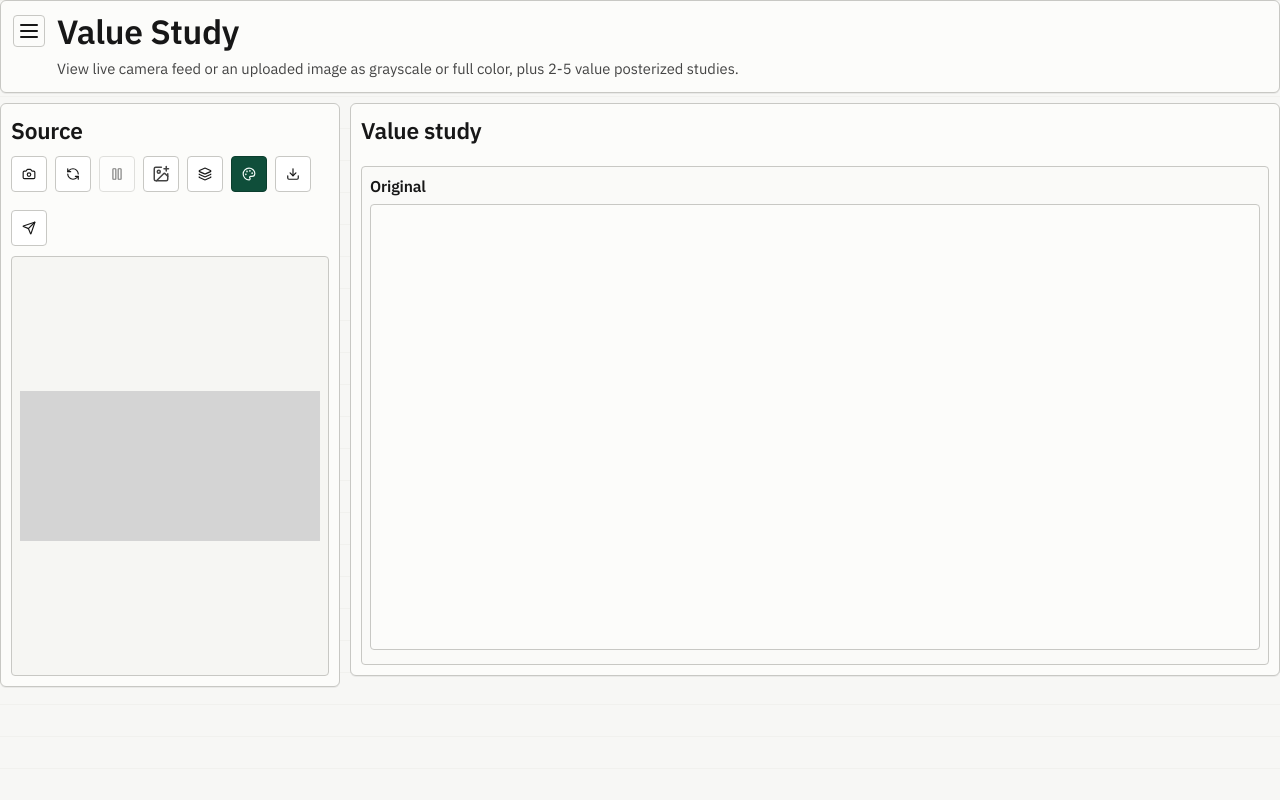
Scenario: PosterizeViewerPage › cycles value stage when the study preview is tapped
Click the button with aria-label "study preview".
click(815, 416)  # box [361, 166, 1269, 665]
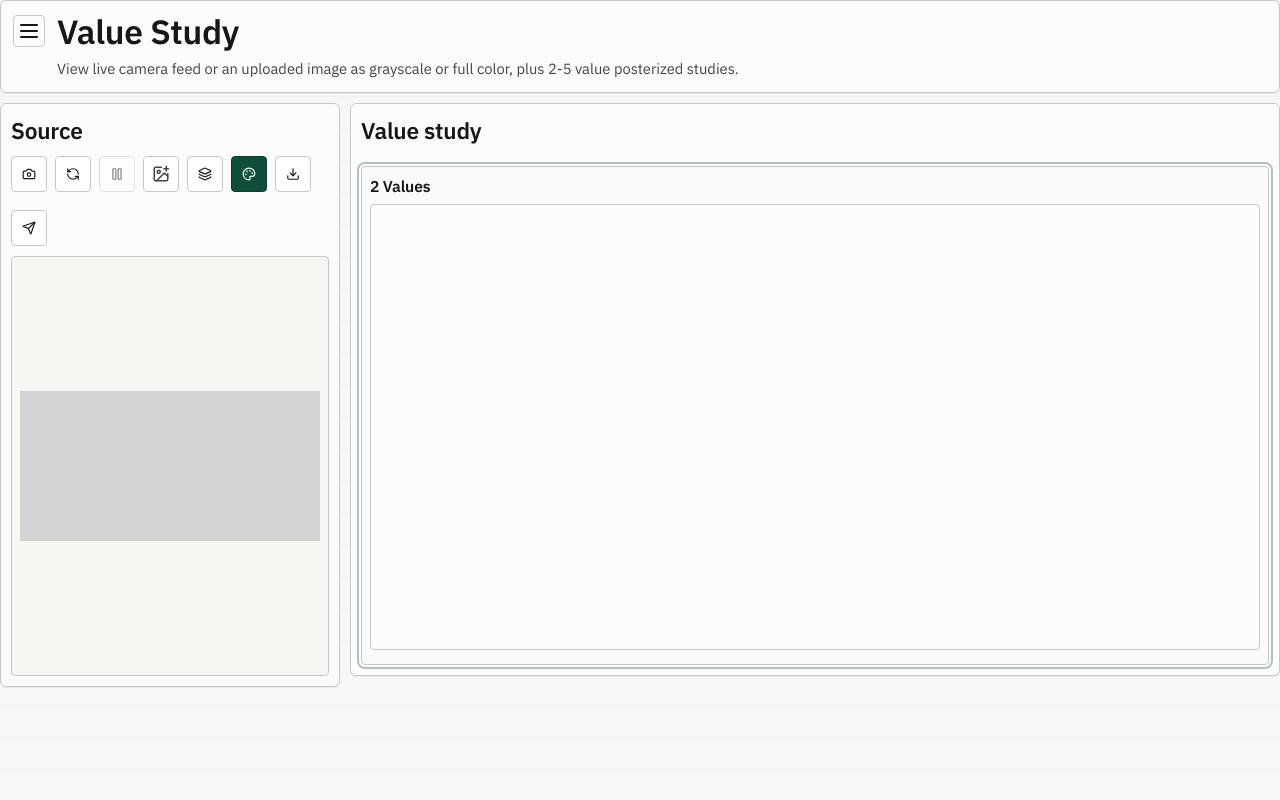
Expected: the heading "2 Values" is shown, [370, 176, 430, 196]
Click the button with aria-label "study preview".
click(815, 416)  # box [361, 166, 1269, 665]
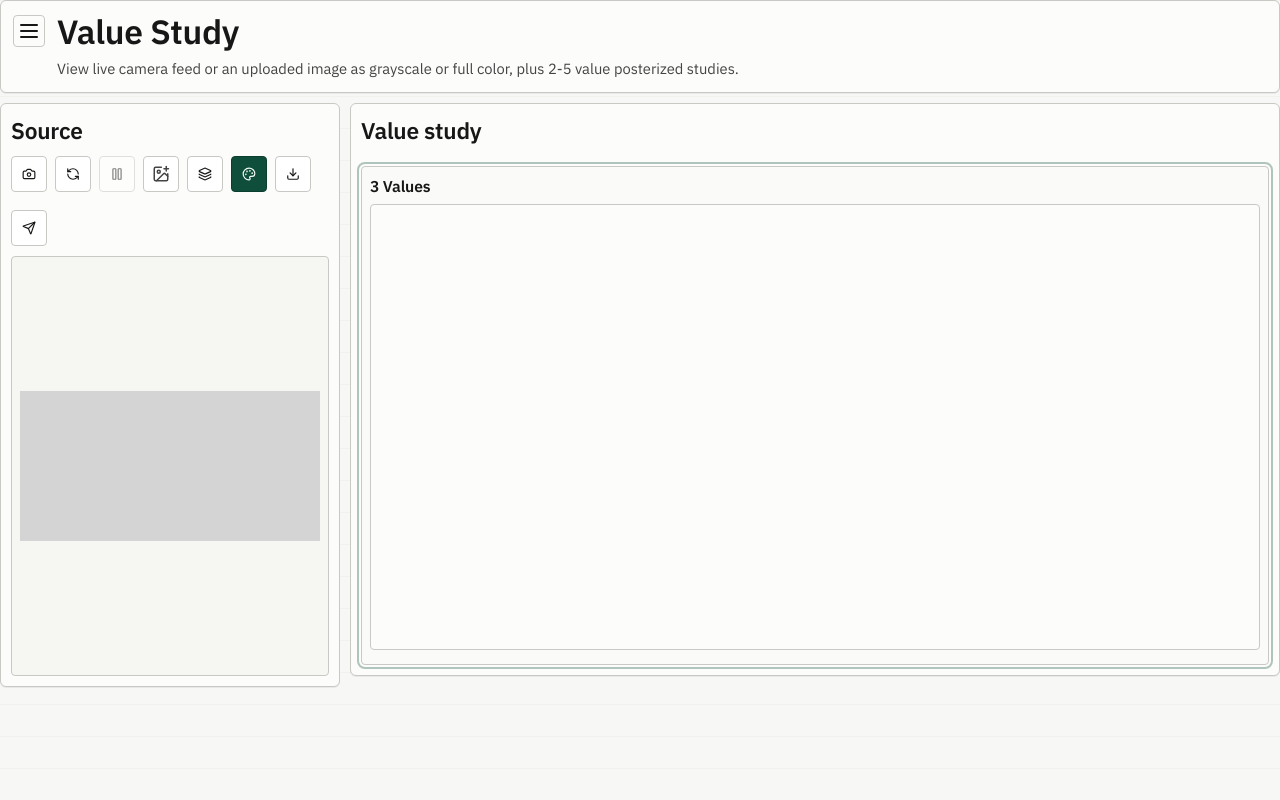
Expected: the heading "3 Values" is shown, [370, 176, 430, 196]
